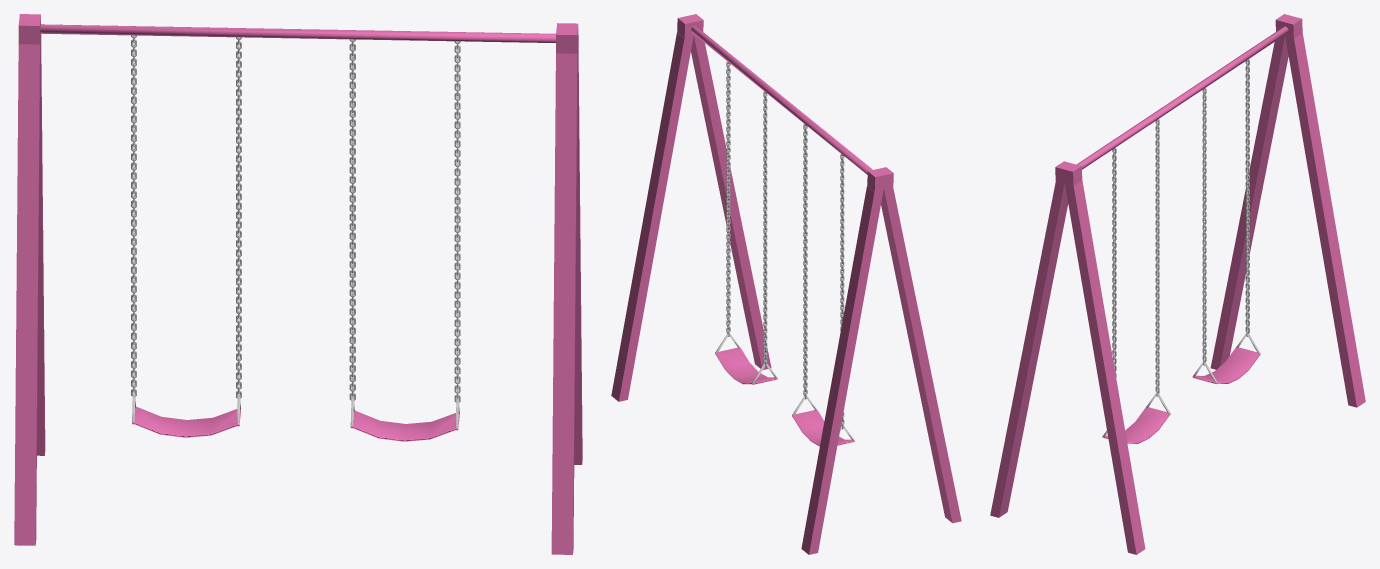
The model's file is swingset-pink.glb.
3 renders of one model, left to right at view 1: azimuth 30°, elevation 25°; view 2: azimuth 150°, elevation 25°; view 3: azimuth 270°, elevation 25°, orthographic. The views are drawn at different scales.
Parts seen in each view (by area): view 1: swing2; view 2: swing2; view 3: swing2.
Boxes of the visible parts, x1,y1,x2,y2 form: swing2: (14, 14, 582, 554); swing2: (611, 14, 961, 554); swing2: (990, 14, 1365, 554).
Size of the model in its own units: 2.78 by 2.47 by 2.3.
